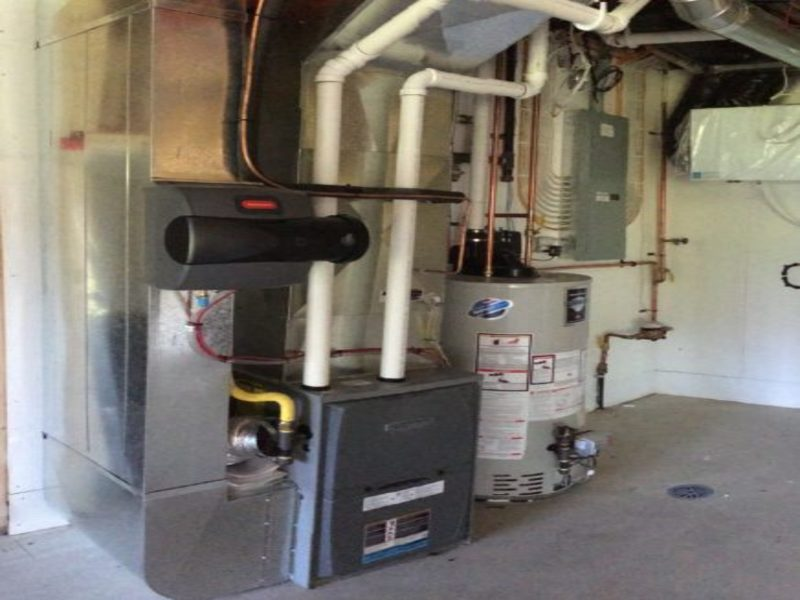valve: (660, 264, 685, 291), (597, 331, 610, 351)
